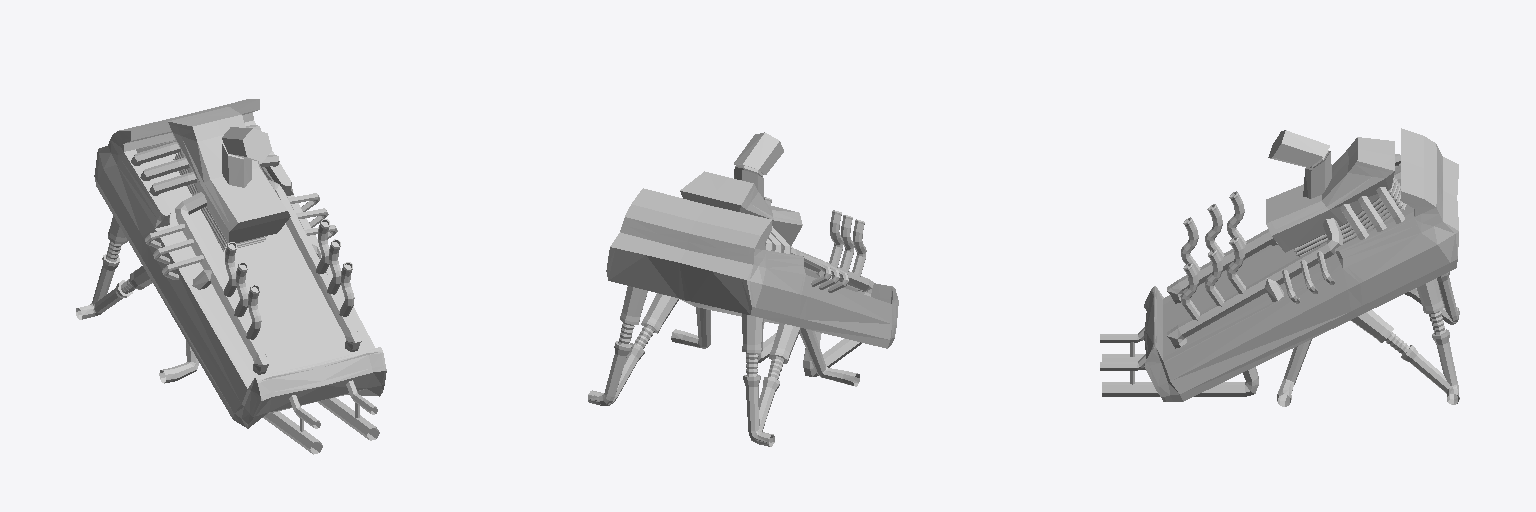
Rendered from chassis-lvl2.obj.
3 views of the same model, side by side, from view 1: azimuth 30°, elevation 25°; view 2: azimuth 150°, elevation 25°; view 3: azimuth 270°, elevation 25° (orthographic).
Visible parts, largest first — view 1: Chassis-Lvl1-Base_Chassis-Lvl1_Cube.001, Chassis-Lvl2-Addons_Chassis-Lvl1_Cube.006; view 2: Chassis-Lvl1-Base_Chassis-Lvl1_Cube.001, Chassis-Lvl2-Addons_Chassis-Lvl1_Cube.006; view 3: Chassis-Lvl1-Base_Chassis-Lvl1_Cube.001, Chassis-Lvl2-Addons_Chassis-Lvl1_Cube.006.
Boxes of the visible parts, <box> form: Chassis-Lvl1-Base_Chassis-Lvl1_Cube.001: <box>78,99,386,454</box>; Chassis-Lvl2-Addons_Chassis-Lvl1_Cube.006: <box>76,193,377,431</box>; Chassis-Lvl1-Base_Chassis-Lvl1_Cube.001: <box>590,132,898,445</box>; Chassis-Lvl2-Addons_Chassis-Lvl1_Cube.006: <box>588,197,866,446</box>; Chassis-Lvl1-Base_Chassis-Lvl1_Cube.001: <box>1102,128,1459,406</box>; Chassis-Lvl2-Addons_Chassis-Lvl1_Cube.006: <box>1100,191,1459,404</box>.
Size of the model in its own units: 3.46 by 4.56 by 5.9.